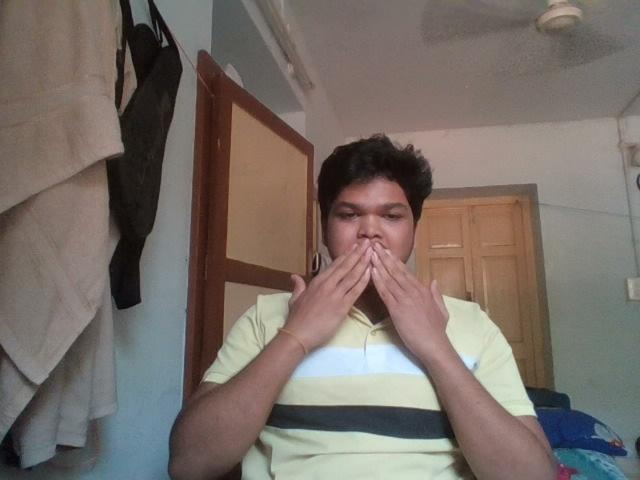thanks: (241, 137, 505, 352)
